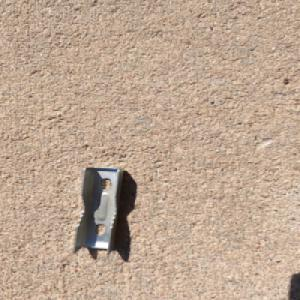ClampPart: (68, 165, 126, 257)
